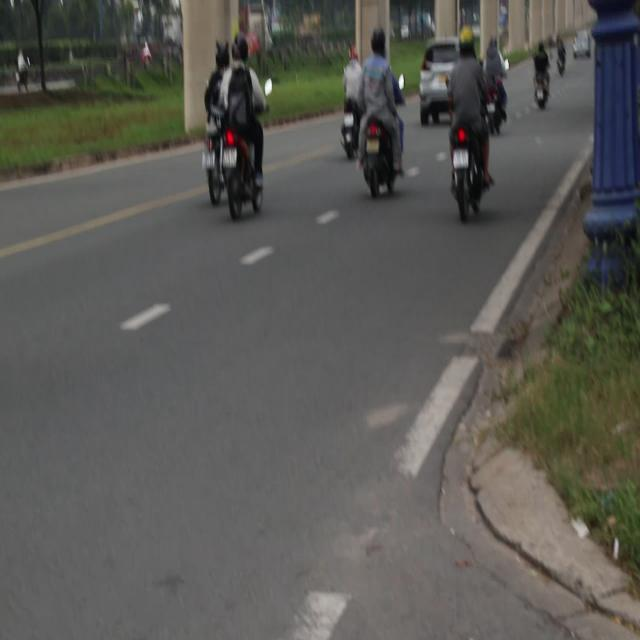car: (419, 38, 461, 124), (572, 24, 597, 70)
motorbike: (444, 124, 498, 218), (193, 117, 232, 214), (225, 140, 262, 238), (358, 118, 402, 197), (10, 44, 40, 110), (482, 82, 512, 140), (342, 95, 364, 169), (532, 75, 550, 113), (556, 38, 565, 85)
